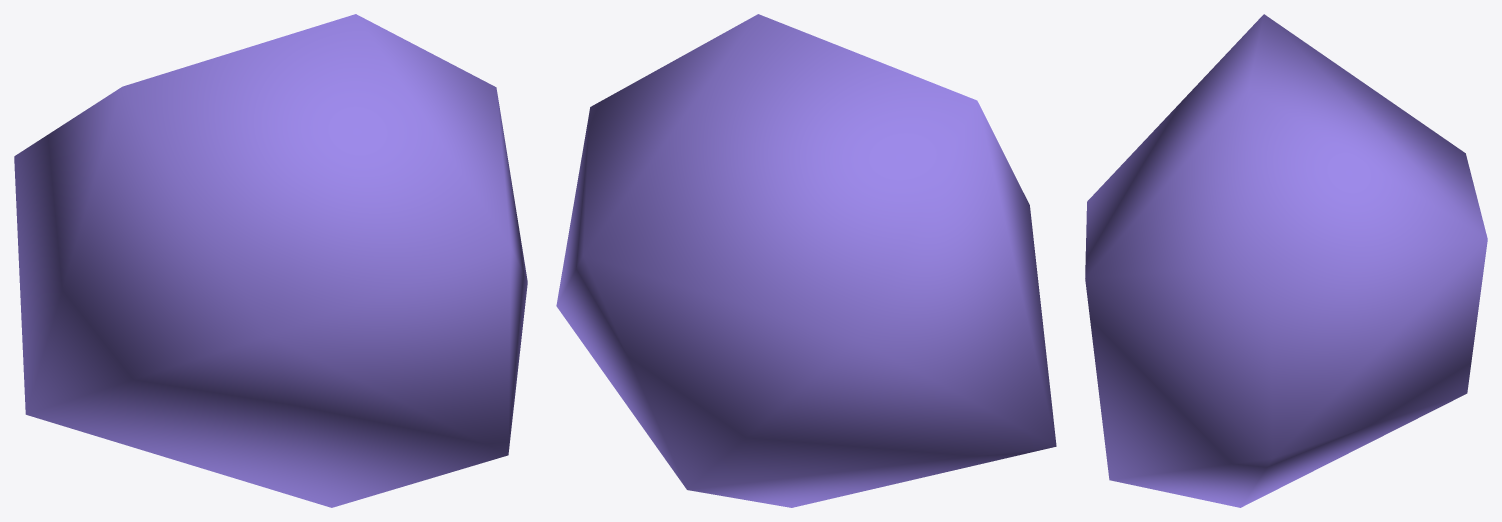
File: rockSmall.glb
3 renders of one model, left to right at view 1: azimuth 30°, elevation 25°; view 2: azimuth 150°, elevation 25°; view 3: azimuth 270°, elevation 25°, orthographic. The views are drawn at different scales.
Visible parts, largest first — view 1: Icosphere; view 2: Icosphere; view 3: Icosphere.
Part boxes in pixels (left/top/right/bottom): Icosphere: left=14, top=14, right=527, bottom=507; Icosphere: left=556, top=14, right=1056, bottom=507; Icosphere: left=1085, top=14, right=1487, bottom=507.
Bounding box in the file's own units: 0.138 × 0.1282 × 0.1087.
